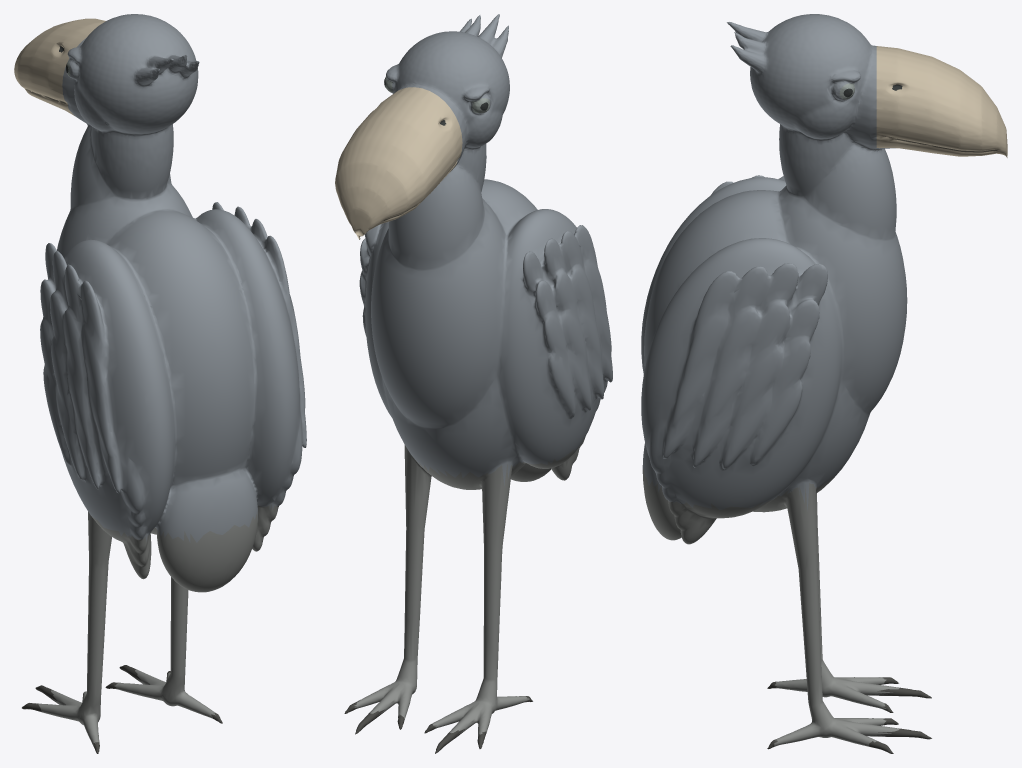
Rendered from NEW443_Shoebill_LOD0.glb.
3 views of the same model, side by side, from view 1: azimuth 30°, elevation 25°; view 2: azimuth 150°, elevation 25°; view 3: azimuth 270°, elevation 25° (orthographic). The views are drawn at different scales.
Visible parts, largest first — view 1: Shoebill_Complete_Skin_LOD0; view 2: Shoebill_Complete_Skin_LOD0; view 3: Shoebill_Complete_Skin_LOD0.
Part boxes in pixels (bbox=[...]): Shoebill_Complete_Skin_LOD0: bbox=[14, 14, 306, 753]; Shoebill_Complete_Skin_LOD0: bbox=[335, 14, 612, 753]; Shoebill_Complete_Skin_LOD0: bbox=[641, 14, 1007, 753].
Bounding box in the file's own units: 0.3962 × 1.25 × 0.594.
